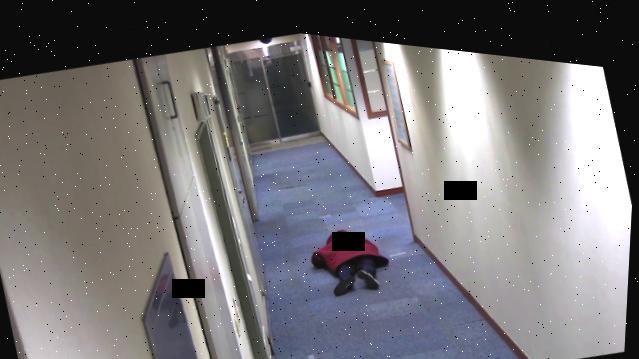fall: (303, 205, 401, 297)
